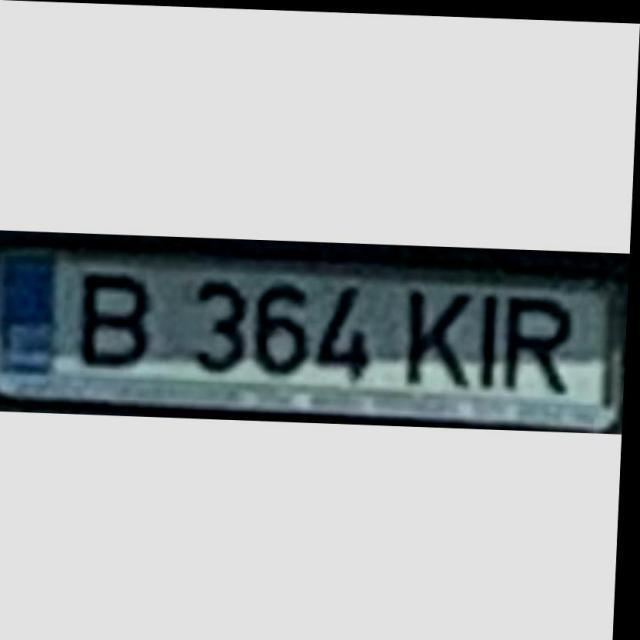license-plates: (0, 234, 628, 432)
